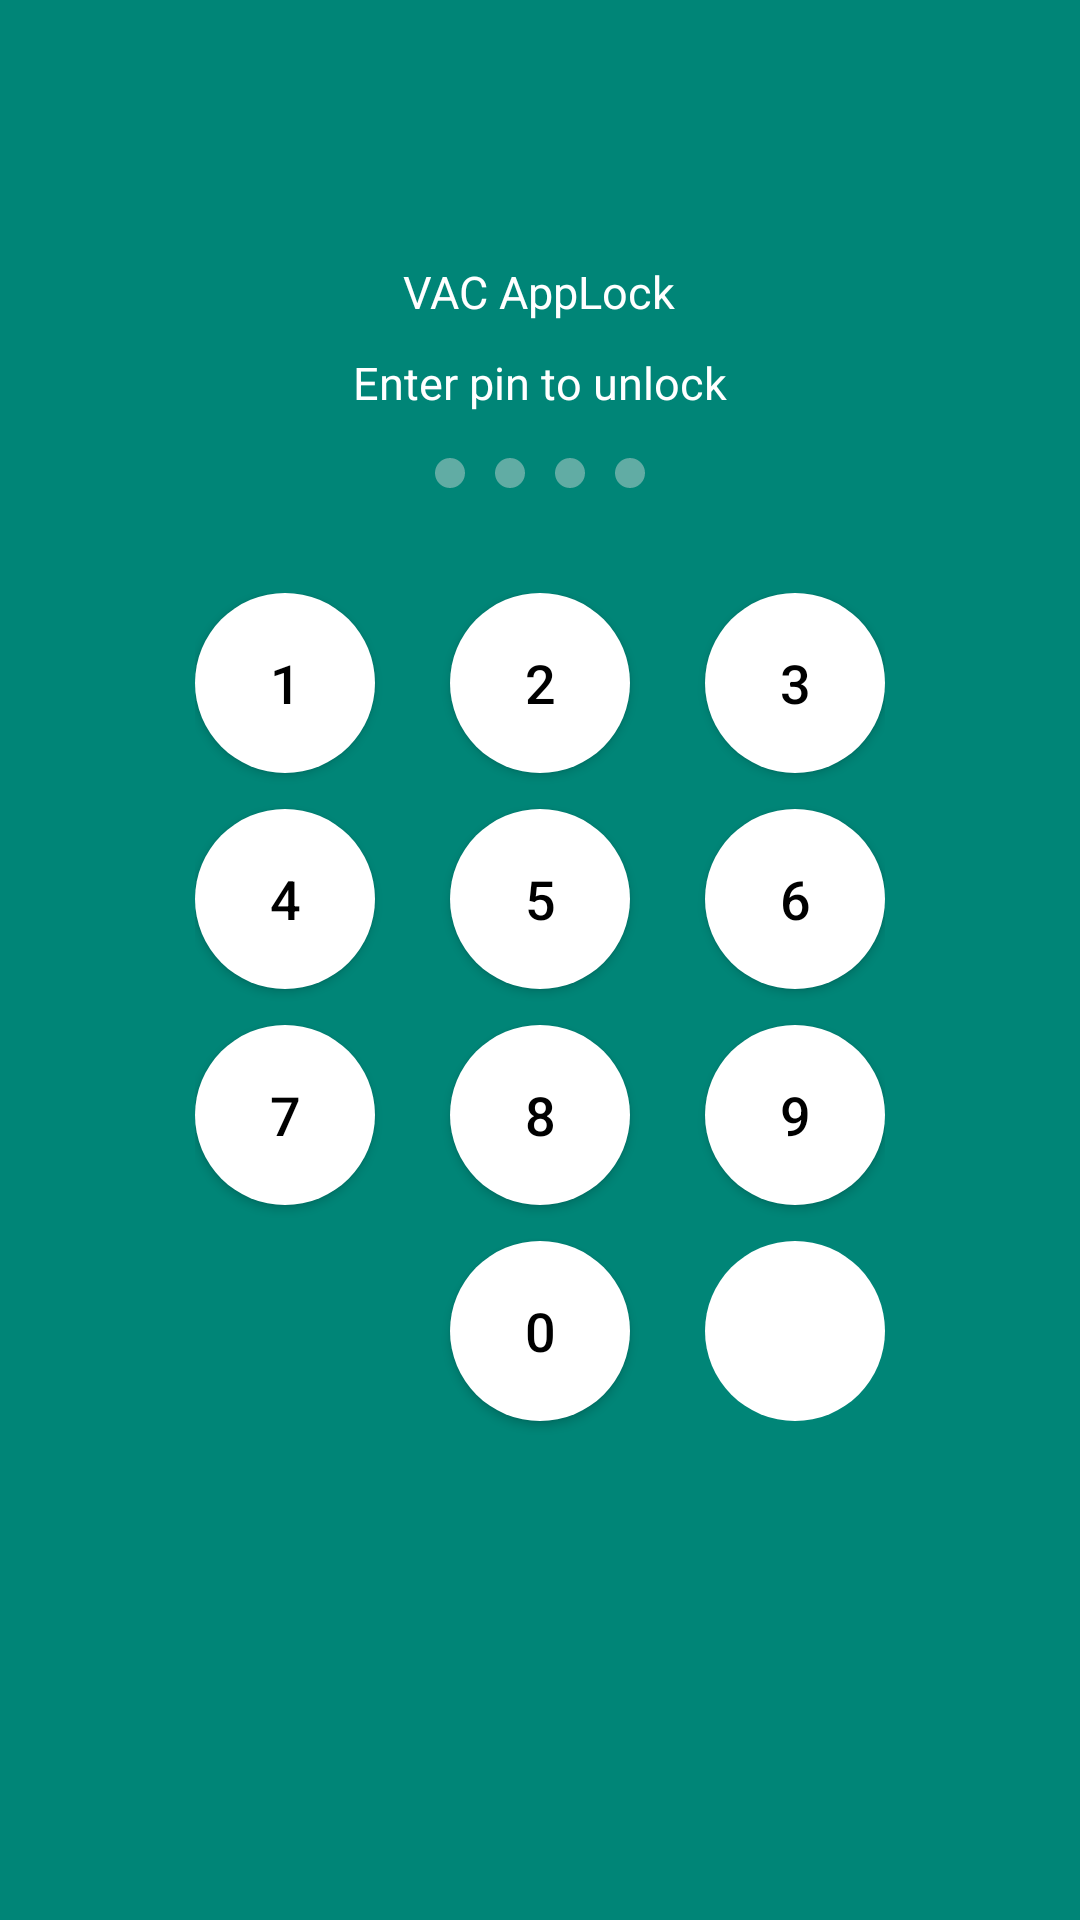

Screen size 1080w x 1920h. Icon name, then its center in pixels as point (x, y):
passcode dot empty: point (450, 473), point (510, 473), point (570, 473), point (630, 473)
